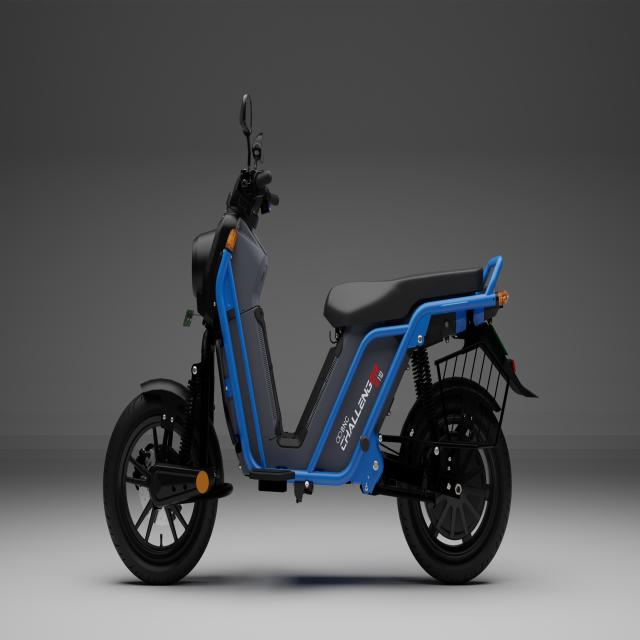Bike: (101, 154, 517, 593)
